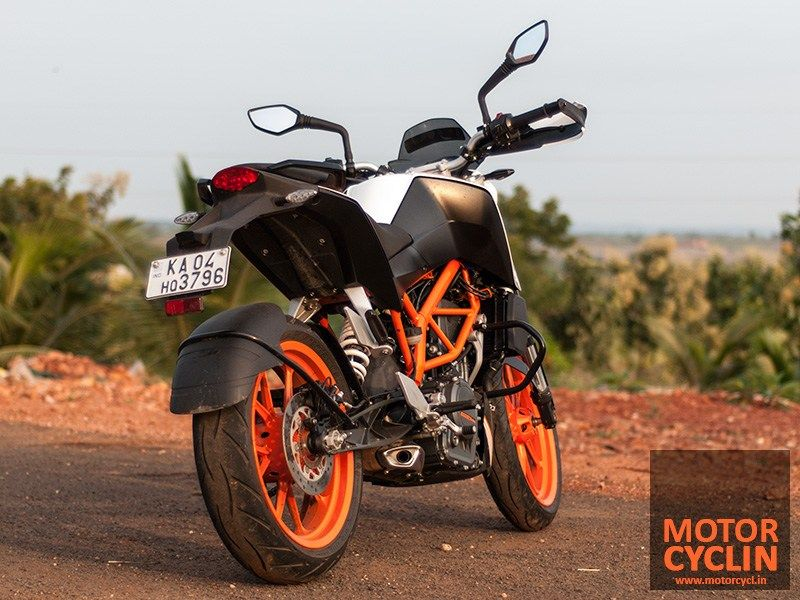doublelinenumberplate: (145, 246, 232, 301)
